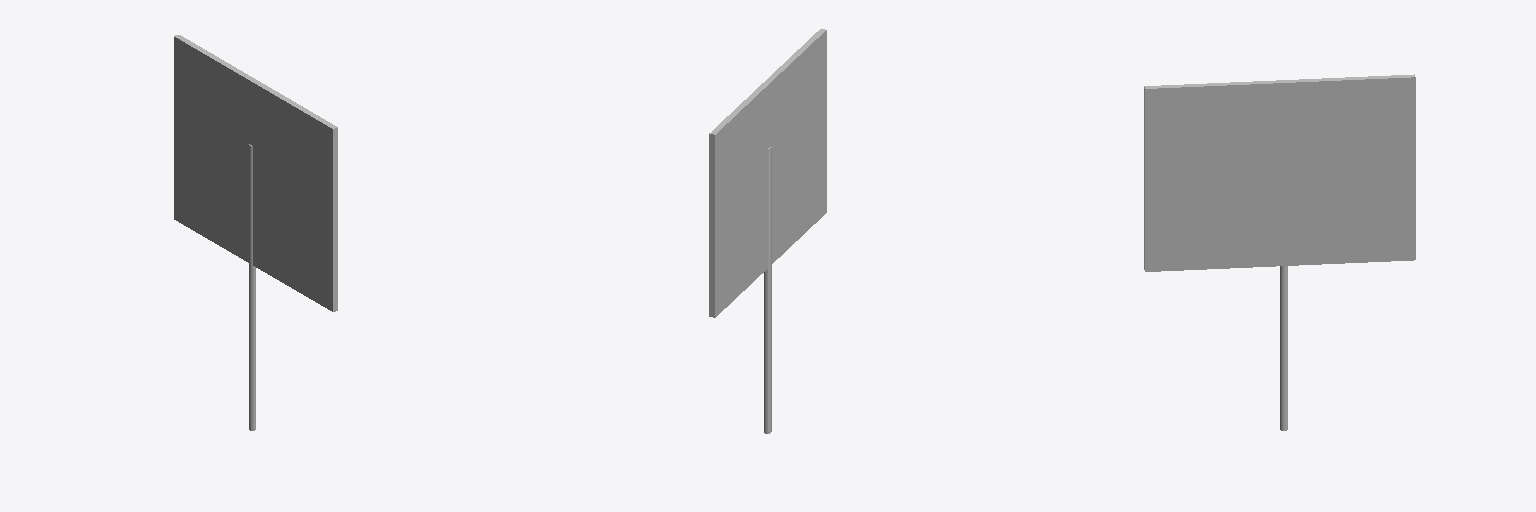
The model's file is board_4.obj.
The picture shows the model from 3 angles: view 1: azimuth 30°, elevation 25°; view 2: azimuth 150°, elevation 25°; view 3: azimuth 270°, elevation 25°; orthographic projection.
Parts seen in each view (by area): view 1: Cube.018_Cube.019, Cylinder.018; view 2: Cube.018_Cube.019, Cylinder.018; view 3: Cube.018_Cube.019, Cylinder.018.
Part boxes in pixels (x1,y1,x2,y2): Cube.018_Cube.019: (174,35,337,311); Cylinder.018: (249,144,255,430); Cube.018_Cube.019: (709,29,826,317); Cylinder.018: (764,147,771,433); Cube.018_Cube.019: (1144,74,1415,271); Cylinder.018: (1280,266,1287,430).
Size of the model in its own units: 0.0278 by 0.3097 by 0.2185.